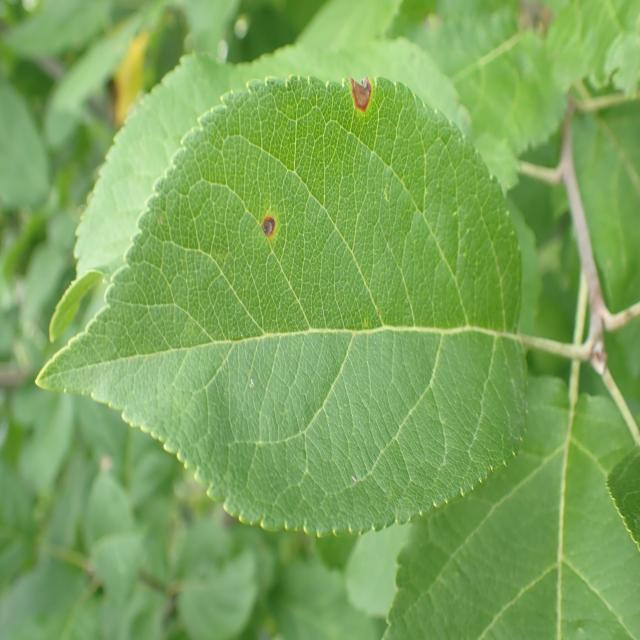Black Rot: (333, 45, 387, 141), (245, 190, 297, 258)
